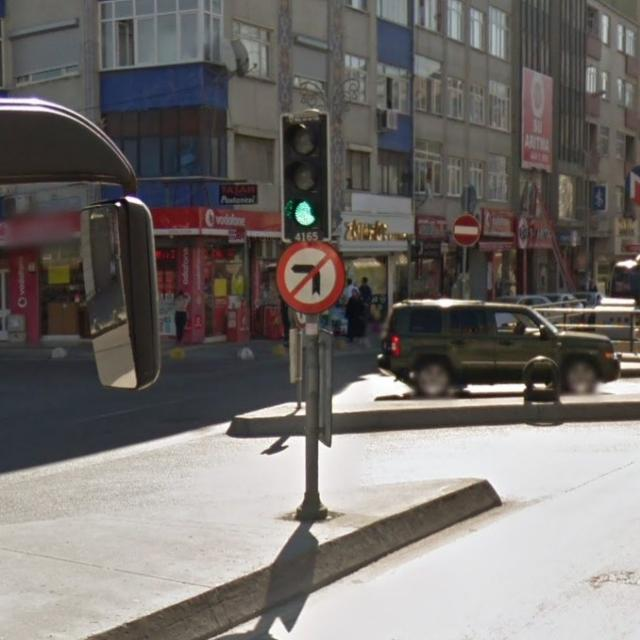girisyok: (454, 215, 480, 247)
soladonulmez: (276, 242, 345, 314)
yesil: (281, 115, 333, 241)
